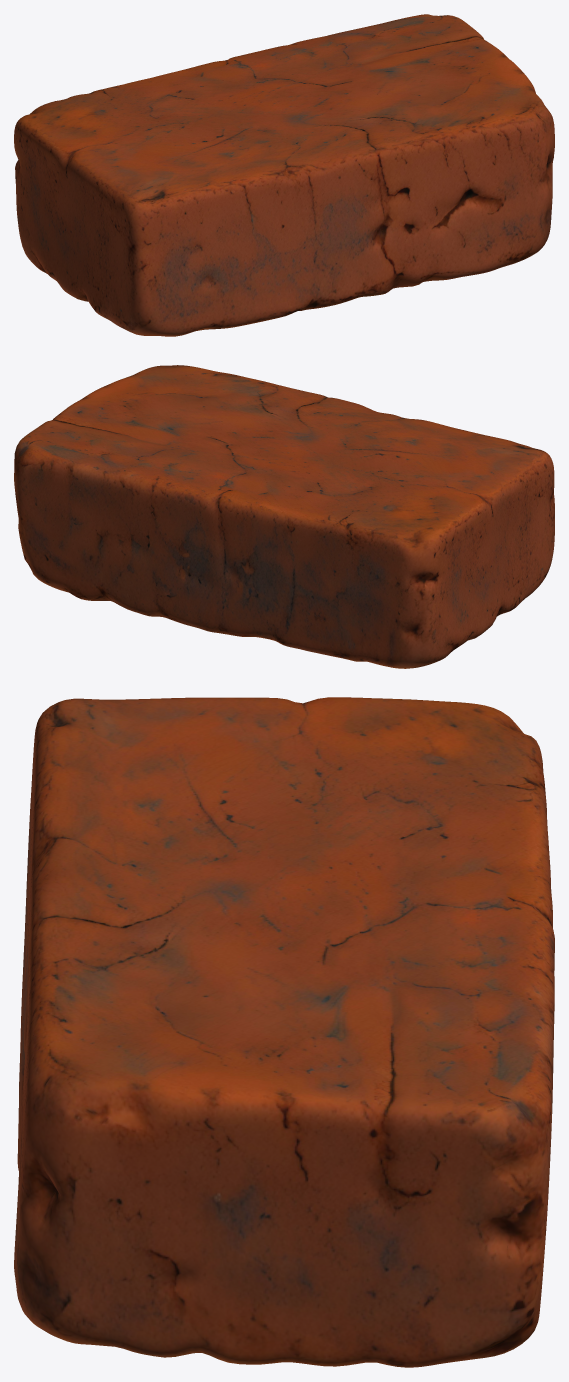
File: Gạch.fbx
3 views of the same model, one above another, from view 1: azimuth 30°, elevation 25°; view 2: azimuth 150°, elevation 25°; view 3: azimuth 270°, elevation 25° (orthographic). The views are drawn at different scales.
Parts seen in each view (by area): view 1: tripo_node_ea655723; view 2: tripo_node_ea655723; view 3: tripo_node_ea655723.
Part boxes in pixels (left/top/right/bottom): tripo_node_ea655723: left=14, top=14, right=554, bottom=336; tripo_node_ea655723: left=14, top=365, right=554, bottom=668; tripo_node_ea655723: left=14, top=697, right=554, bottom=1367.
Size of the model in its own units: 99.98 by 33.52 by 55.9.
Materials: 1 (1 with a texture image).
